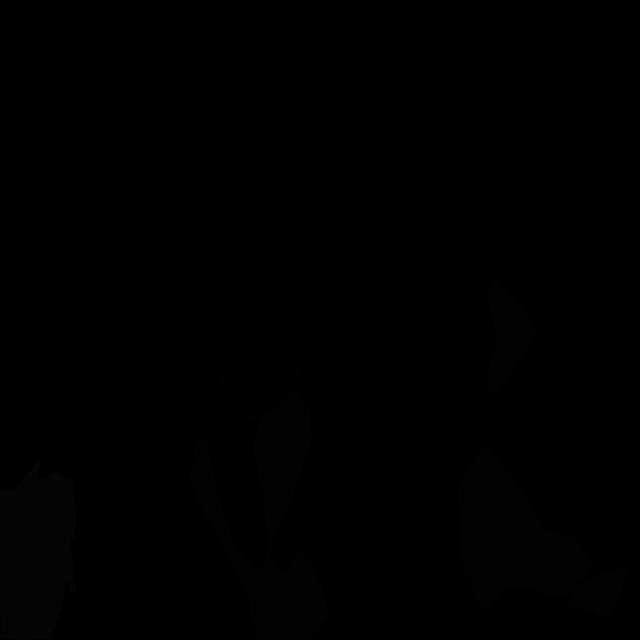cardboard: (189, 386, 330, 640), (457, 445, 629, 625), (487, 278, 539, 399)
rigid_plastic: (214, 317, 302, 426)
soft_plastic: (0, 457, 76, 640)
